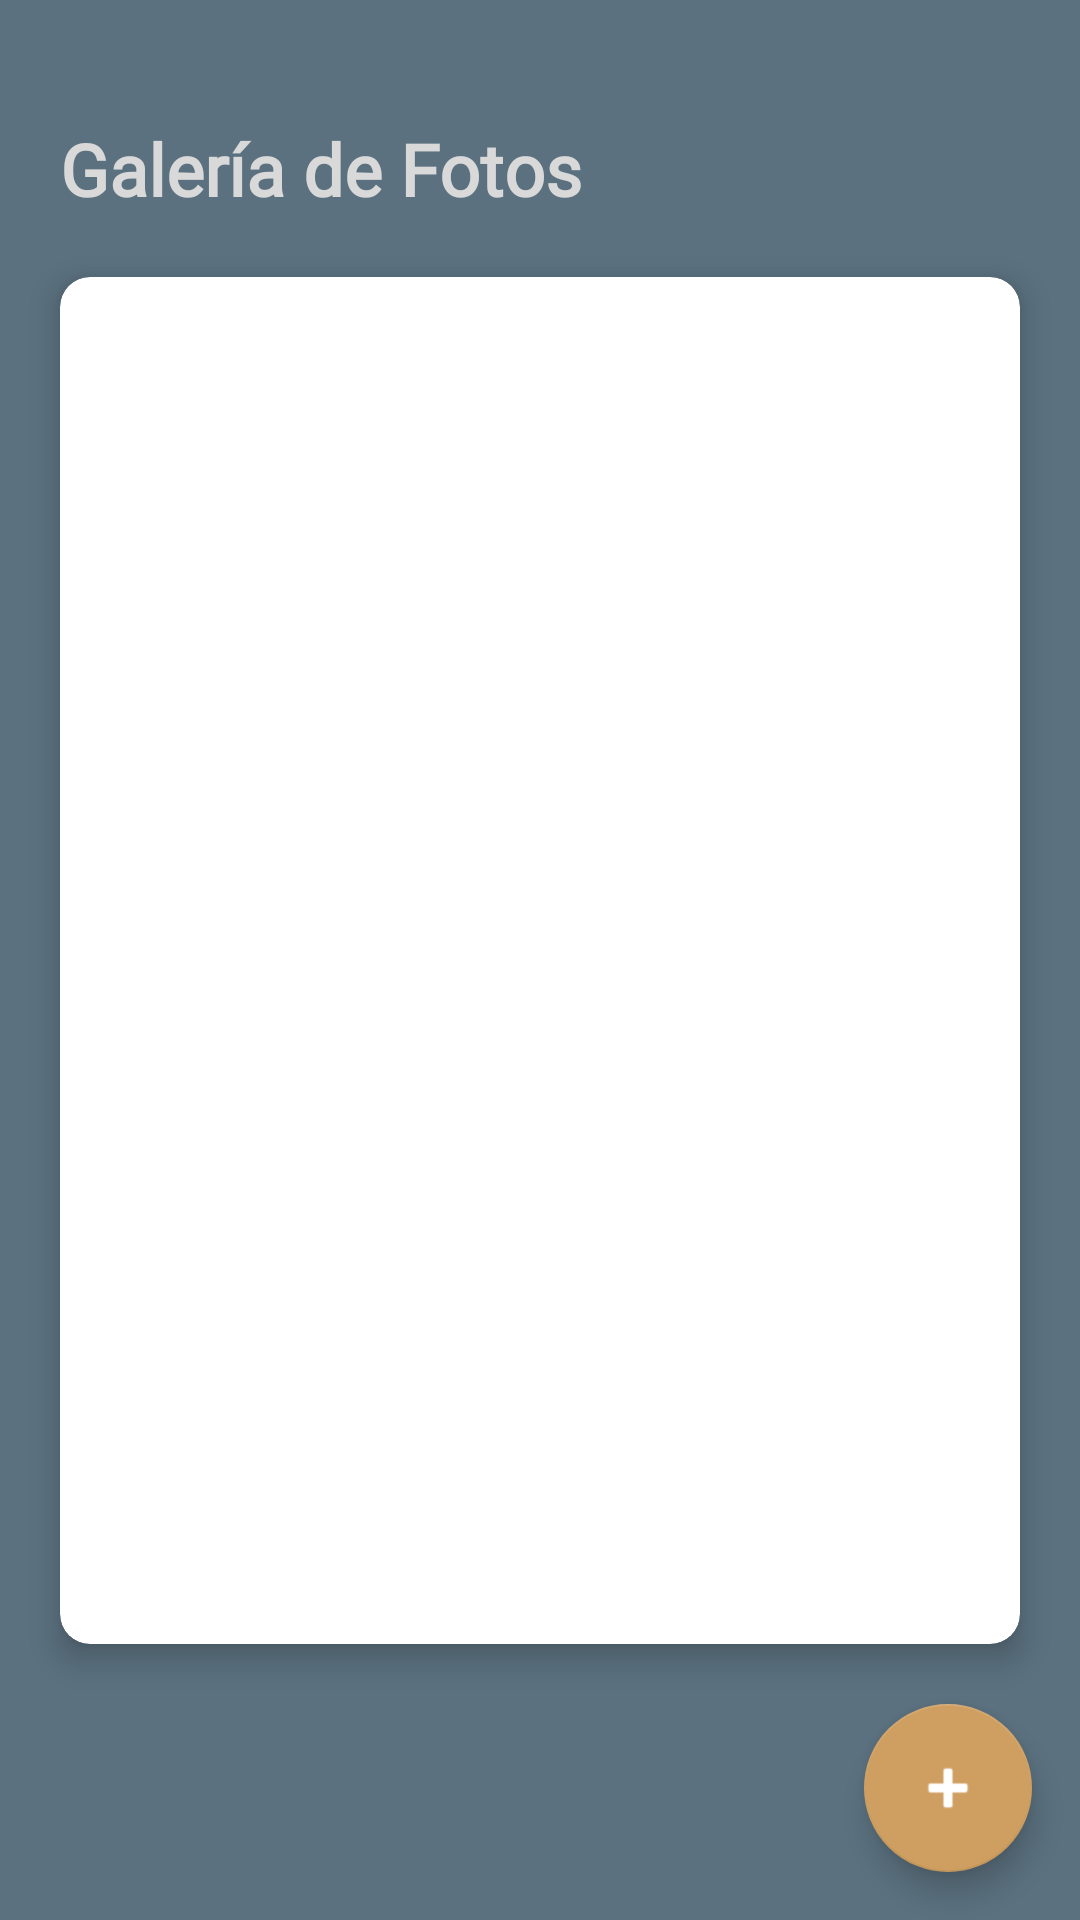

Screen size 1080 x 1920. Icon name, then its center in pixels as (x=x, y=y):
Agregar fotos: (x=948, y=1788)
